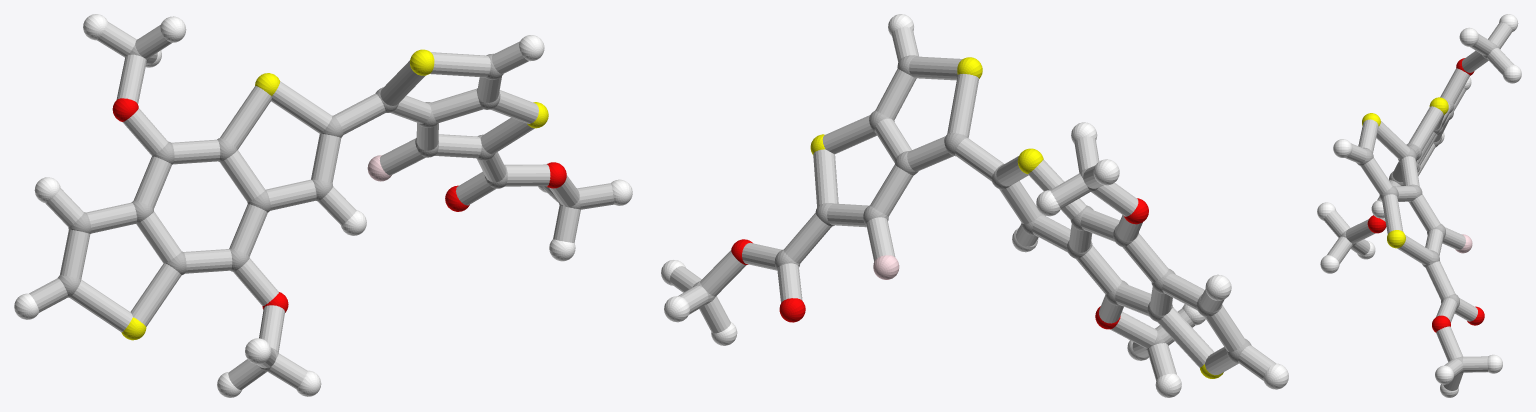
File: color.glb
3 views of the same model, side by side, from view 1: azimuth 30°, elevation 25°; view 2: azimuth 150°, elevation 25°; view 3: azimuth 270°, elevation 25° (orthographic). The views are drawn at different scales.
Parts seen in each view (by area): view 1: grp15205, grp8689, grp1, grp7241, grp13395; view 2: grp15205, grp8689, grp1, grp13395, grp7241; view 3: grp15205, grp8689, grp1, grp13395, grp7241.
Part boxes in pixels (x1,y1,x2,y2): grp15205: [29, 22, 614, 389]; grp8689: [14, 14, 632, 397]; grp1: [58, 39, 580, 371]; grp7241: [121, 49, 548, 340]; grp13395: [112, 98, 566, 312]; grp15205: [670, 27, 1275, 380]; grp8689: [661, 14, 1288, 397]; grp1: [693, 55, 1251, 363]; grp13395: [731, 198, 1148, 329]; grp7241: [810, 57, 1223, 378]; grp15205: [1323, 22, 1513, 390]; grp8689: [1317, 14, 1521, 397]; grp1: [1340, 42, 1498, 373]; grp13395: [1367, 58, 1484, 332]; grp7241: [1362, 97, 1448, 248].
Bounding box in the file's own units: 16.32 × 8.13 × 6.41.
